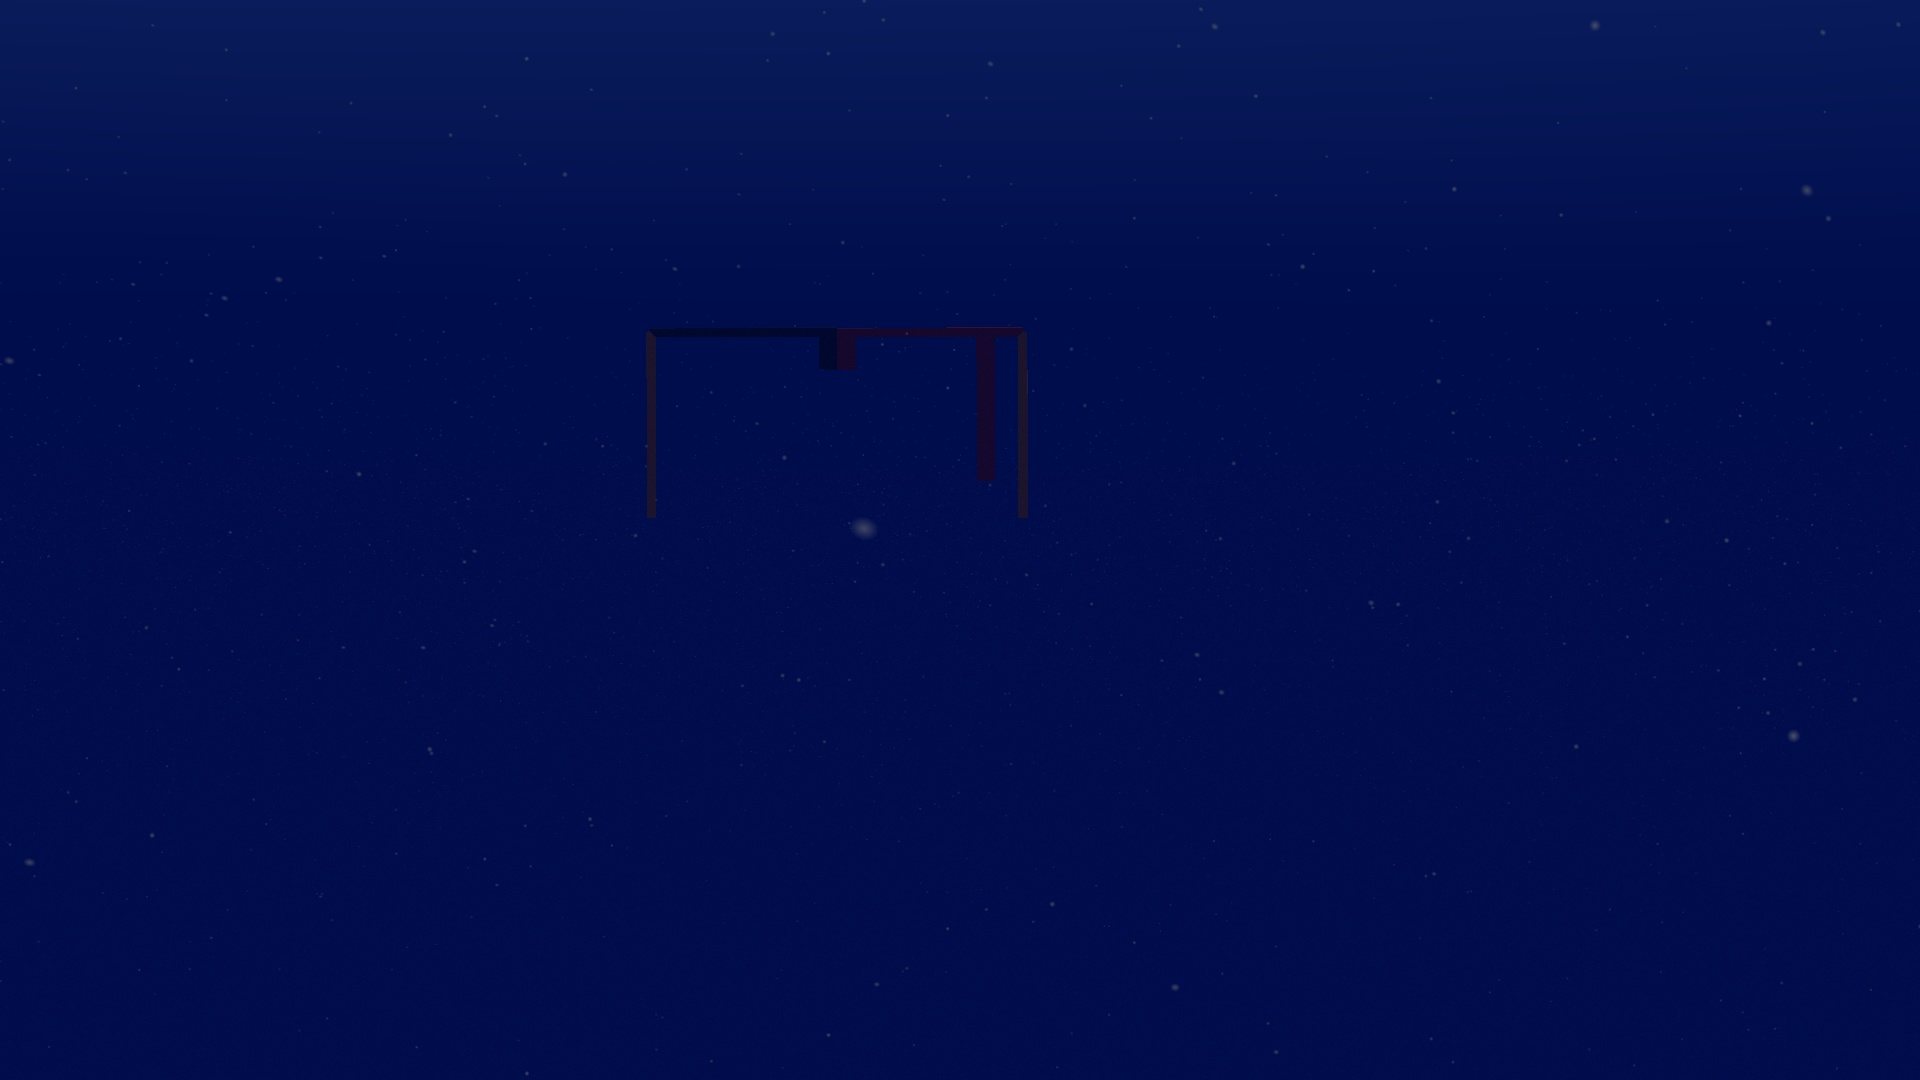Gate: (636, 314, 1035, 526)
